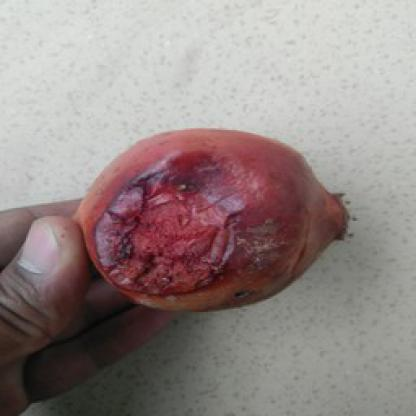pomegranate_rotten: (64, 125, 354, 315)
